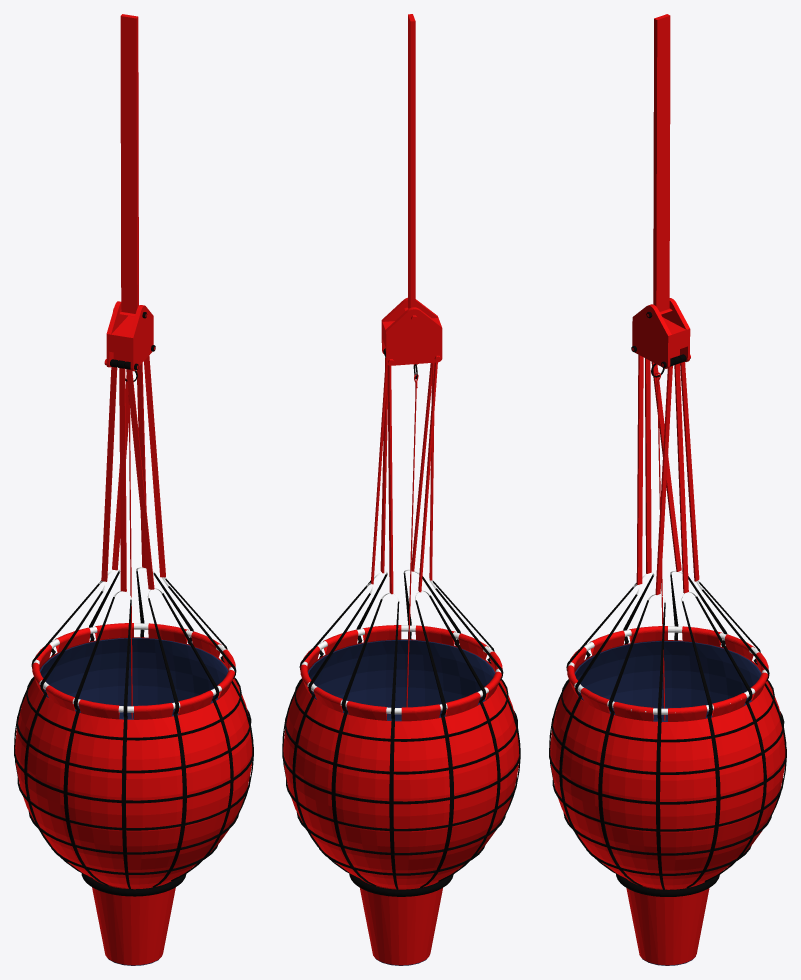
File: su sepeti.fbx
3 renders of one model, left to right at view 1: azimuth 30°, elevation 25°; view 2: azimuth 150°, elevation 25°; view 3: azimuth 270°, elevation 25°, orthographic.
Visible parts, largest first — view 1: Cut_Extrude1, Cut_Extrude1_3, CirPattern3, Cut_Extrude1_6, Loft2_1_, Loft1_1_, Cut_Extrude1_4, Cut_Extrude5, Cut_Extrude1_1, Loft2_1__1, Boss_Extrude1_3, Boss_Extrude1_1 (+10 smaller); view 2: Cut_Extrude1_1, Cut_Extrude1_5, CirPattern3, Loft2_1__1, Loft1_1__2, Cut_Extrude5, Cut_Extrude1_3, Cut_Extrude1_6, Cut_Extrude1_2, Loft2_1__2, Loft1_1_, Cut_Extrude1_4 (+10 smaller); view 3: Cut_Extrude1_2, Cut_Extrude1_4, CirPattern3, Cut_Extrude1_6, Loft2_1__2, Loft1_1__1, Cut_Extrude1_5, Cut_Extrude5, Cut_Extrude1, Loft2_1_, Boss_Extrude1_2, Boss_Extrude1_1 (+10 smaller).
Part boxes in pixels (x1,y1,x2,y2): Cut_Extrude1: [126, 690, 230, 965]; Cut_Extrude1_3: [27, 685, 131, 965]; CirPattern3: [39, 638, 228, 965]; Cut_Extrude1_6: [119, 14, 138, 316]; Loft2_1_: [125, 593, 233, 887]; Loft1_1_: [25, 597, 131, 888]; Cut_Extrude1_4: [158, 649, 252, 959]; Cut_Extrude5: [106, 301, 153, 371]; Cut_Extrude1_1: [15, 644, 107, 957]; Loft2_1__1: [14, 583, 102, 878]; Boss_Extrude1_3: [119, 368, 126, 591]; Boss_Extrude1_1: [126, 369, 154, 589]; Cut_Extrude1_1: [393, 692, 497, 965]; Cut_Extrude1_5: [295, 687, 399, 965]; CirPattern3: [308, 640, 495, 965]; Loft2_1__1: [392, 595, 500, 887]; Loft1_1__2: [294, 599, 399, 889]; Cut_Extrude5: [381, 297, 442, 365]; Cut_Extrude1_3: [425, 651, 519, 959]; Cut_Extrude1_6: [404, 14, 415, 311]; Cut_Extrude1_2: [283, 646, 375, 957]; Loft2_1__2: [282, 586, 370, 878]; Loft1_1_: [433, 581, 520, 859]; Cut_Extrude1_4: [321, 625, 408, 658]; Cut_Extrude1_2: [660, 693, 763, 965]; Cut_Extrude1_4: [562, 688, 665, 965]; CirPattern3: [574, 641, 761, 965]; Cut_Extrude1_6: [653, 14, 672, 314]; Loft2_1__2: [659, 596, 766, 887]; Loft1_1__1: [560, 600, 665, 889]; Cut_Extrude1_5: [692, 652, 785, 959]; Cut_Extrude5: [632, 298, 690, 368]; Cut_Extrude1: [550, 647, 641, 957]; Loft2_1_: [549, 587, 637, 878]; Boss_Extrude1_2: [674, 363, 688, 593]; Boss_Extrude1_1: [636, 354, 643, 584].
Bounding box in the file's own units: 189 × 818 × 189.
